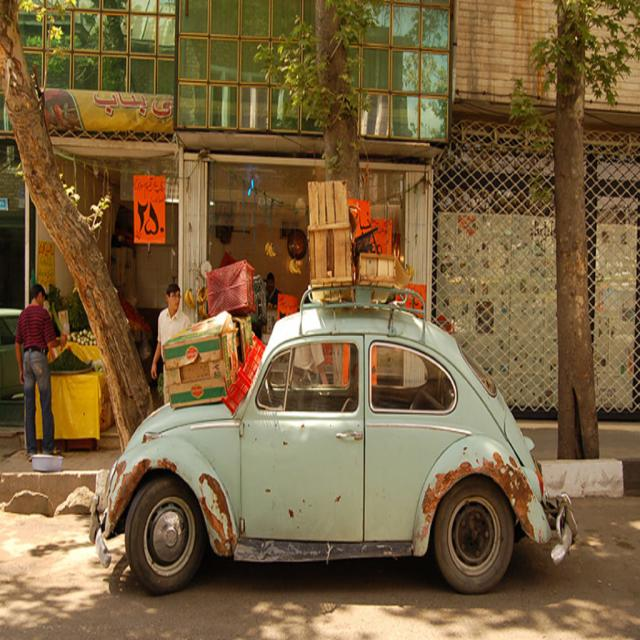car: (86, 282, 578, 596)
